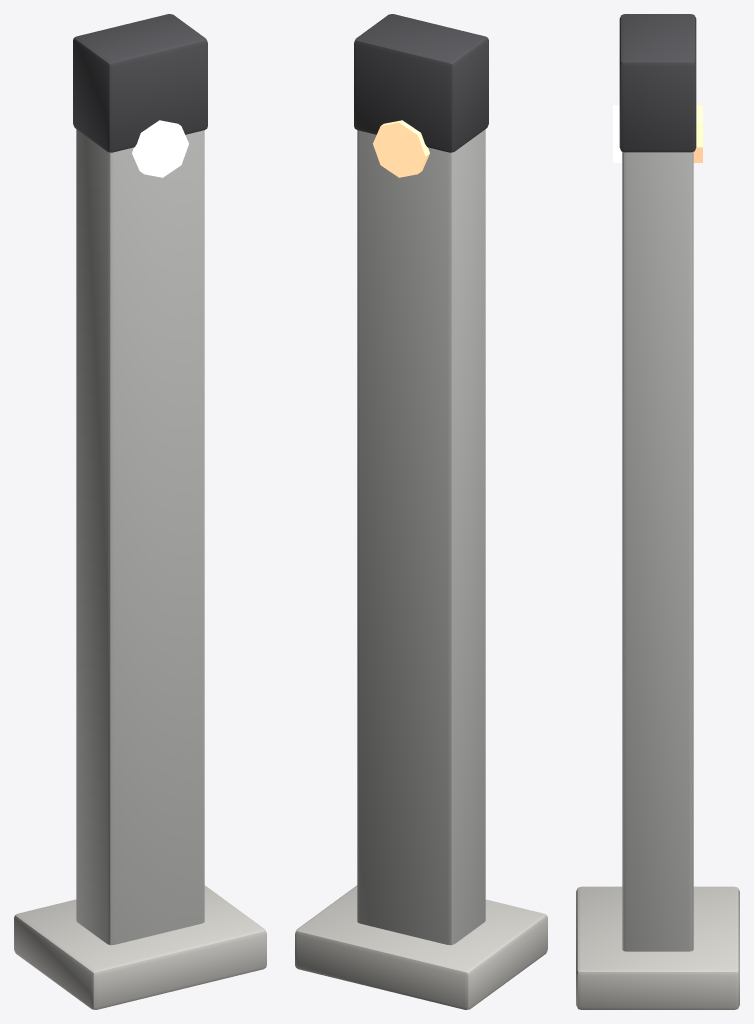
Rendered from th39_leitpfosten.glb.
The picture shows the model from 3 angles, left to right: view 1: azimuth 30°, elevation 25°; view 2: azimuth 150°, elevation 25°; view 3: azimuth 270°, elevation 25°; orthographic projection.
Visible parts, largest first — view 1: Cube, Cube.002, Cube.001, Cylinder.001; view 2: Cube, Cube.002, Cube.001, Cylinder; view 3: Cube, Cube.002, Cube.001, Cylinder, Cylinder.001.
Boxes of the visible parts, left/top/right/bottom form: Cube: left=76, top=129, right=204, bottom=945; Cube.002: left=14, top=885, right=266, bottom=1009; Cube.001: left=73, top=14, right=207, bottom=152; Cylinder.001: left=132, top=120, right=188, bottom=177; Cube: left=357, top=129, right=485, bottom=945; Cube.002: left=295, top=885, right=547, bottom=1009; Cube.001: left=354, top=14, right=488, bottom=152; Cylinder: left=373, top=120, right=429, bottom=177; Cube: left=622, top=152, right=693, bottom=951; Cube.002: left=576, top=886, right=739, bottom=1009; Cube.001: left=619, top=14, right=696, bottom=152; Cylinder: left=693, top=105, right=702, bottom=162; Cylinder.001: left=613, top=105, right=622, bottom=162.
Bounding box in the file's own units: 0.2 × 1 × 0.16.
